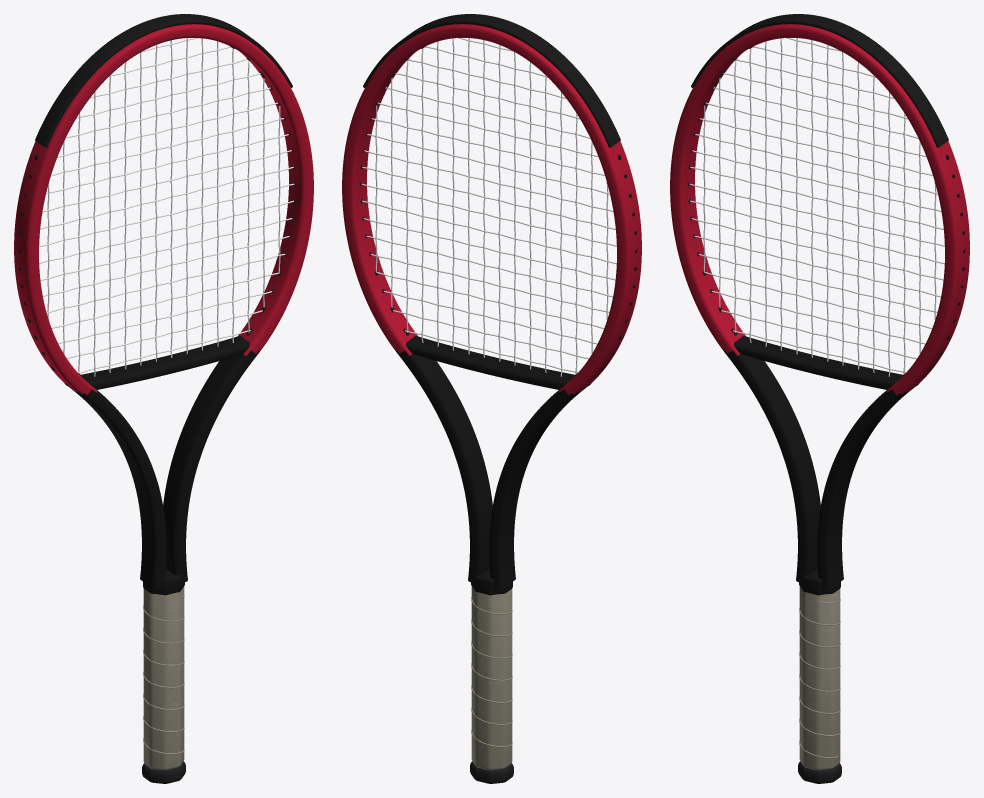
Rendered from yonex-vcore-100-2023.glb.
The picture shows the model from 3 angles, left to right: view 1: azimuth 30°, elevation 25°; view 2: azimuth 150°, elevation 25°; view 3: azimuth 330°, elevation 25°; orthographic projection.
Parts seen in each view (by area): view 1: Frame, Strings, Handle, Bumper, Yoke, GripSeam, ButtCap, Collar; view 2: Frame, Strings, Handle, Bumper, Yoke, GripSeam, ButtCap, Collar; view 3: Frame, Strings, Handle, Bumper, Yoke, GripSeam, ButtCap, Collar.
Boxes of the visible parts, x1=… form: Frame: x1=14, y1=24, x2=313, y2=588; Strings: x1=39, y1=38, x2=294, y2=376; Handle: x1=143, y1=586, x2=184, y2=770; Bumper: x1=35, y1=14, x2=292, y2=147; Yoke: x1=81, y1=336, x2=249, y2=389; GripSeam: x1=143, y1=595, x2=184, y2=754; ButtCap: x1=142, y1=761, x2=185, y2=783; Collar: x1=143, y1=569, x2=184, y2=595; Frame: x1=342, y1=24, x2=641, y2=588; Strings: x1=361, y1=38, x2=616, y2=376; Handle: x1=471, y1=586, x2=512, y2=770; Bumper: x1=363, y1=14, x2=620, y2=147; Yoke: x1=406, y1=336, x2=574, y2=389; GripSeam: x1=471, y1=597, x2=512, y2=747; ButtCap: x1=470, y1=761, x2=513, y2=783; Collar: x1=471, y1=569, x2=512, y2=595; Frame: x1=670, y1=24, x2=969, y2=588; Strings: x1=689, y1=38, x2=944, y2=376; Handle: x1=799, y1=586, x2=840, y2=770; Bumper: x1=691, y1=14, x2=948, y2=147; Yoke: x1=734, y1=336, x2=902, y2=389; GripSeam: x1=799, y1=599, x2=840, y2=758; ButtCap: x1=798, y1=761, x2=841, y2=783; Collar: x1=799, y1=569, x2=840, y2=595.
Size of the model in its own units: 0.2758 by 0.6886 by 0.0327.
6 materials, 1 textured.
